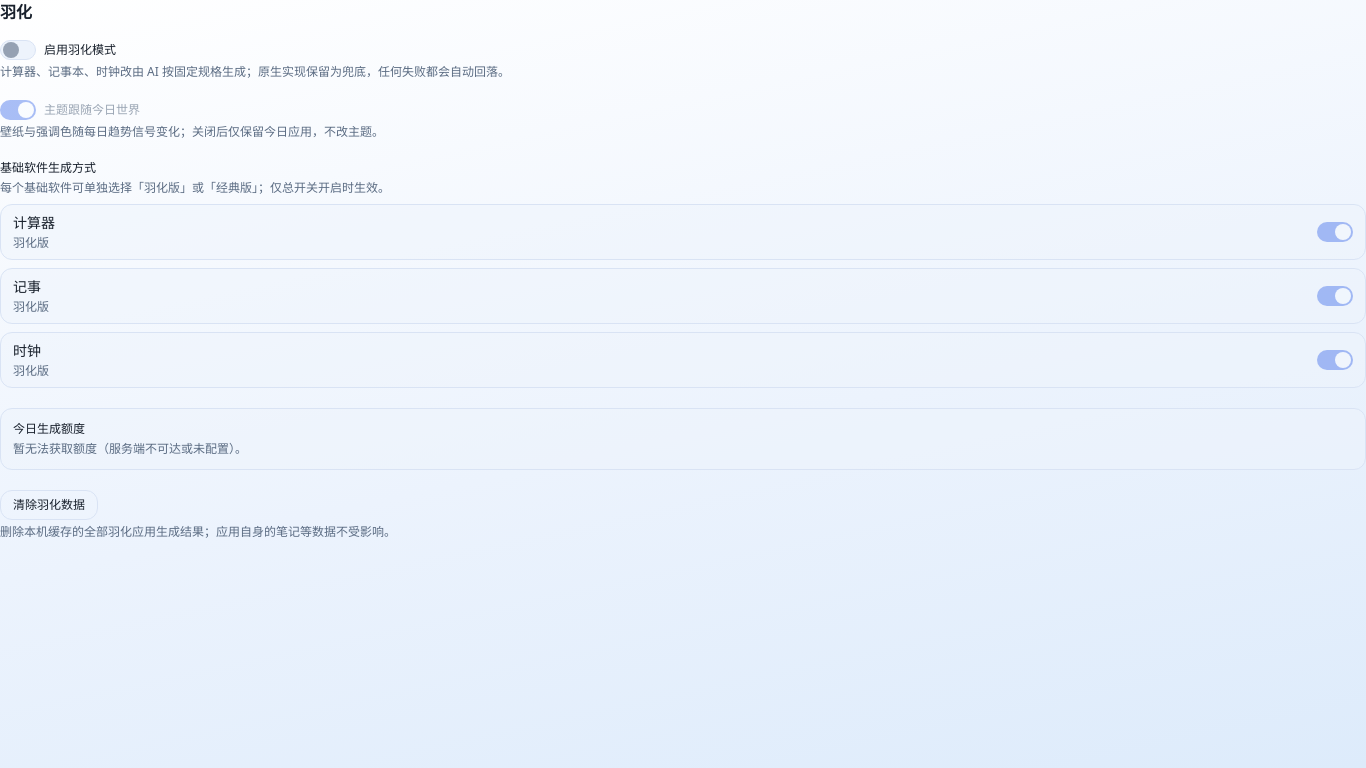
Scenario: EclosionSection（生成方式 / 清除数据） › shows an inline error and keeps the dialog when clearing fails
The image size is (1366, 768).
Click the button with test id "eclosion-clear".
click(49, 505)  # box x1=0 y1=490 x2=98 y2=520
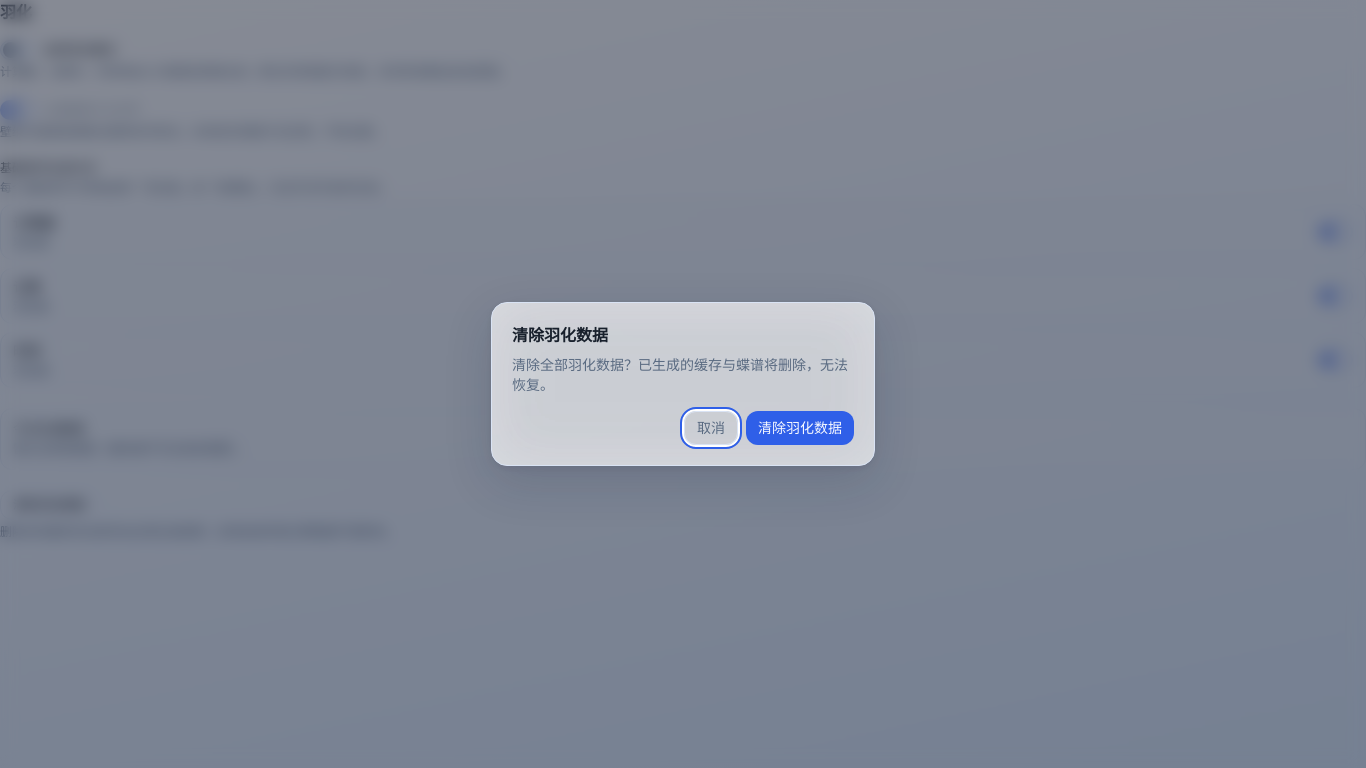
Click the button "清除羽化数据".
click(800, 428)  # box x1=746 y1=411 x2=854 y2=445
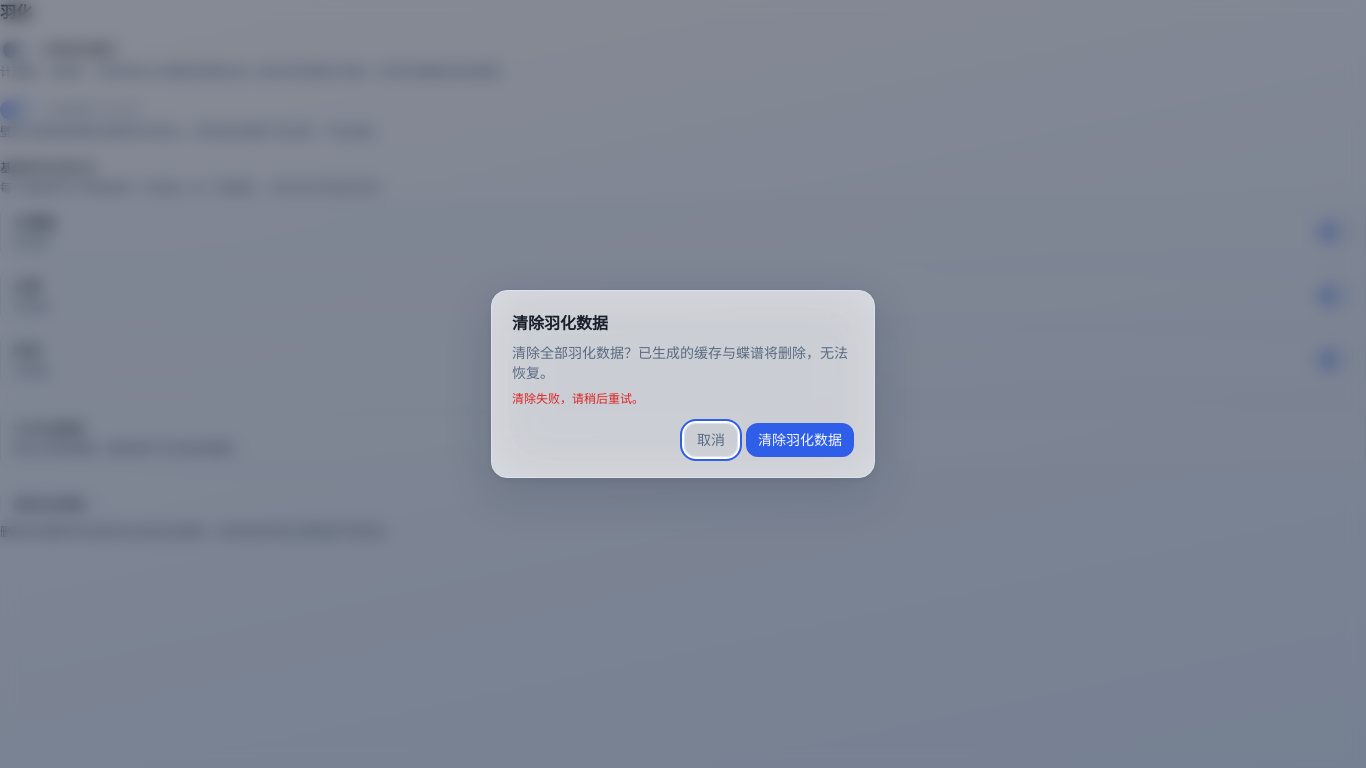
expect the dialog "清除羽化数据" is shown: met
expect the message reads "清除失败，请稍后重试。": met, box x1=512 y1=390 x2=644 y2=407
